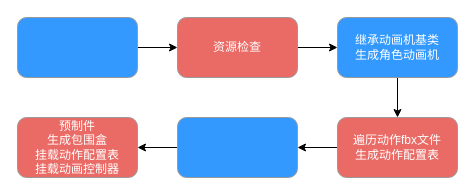
Image size: 475x195. Some labels were removed from this diagram. Each missing label, with the box of its shape:
根据模型fbx文件 生成预制件: (176, 116, 298, 178)
美术按角色高低模 分文件夹提交资源: (16, 16, 138, 78)
